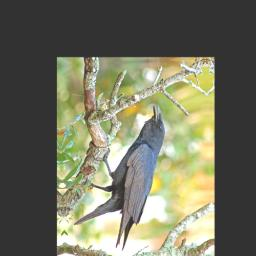Crow: (68, 103, 170, 255)
